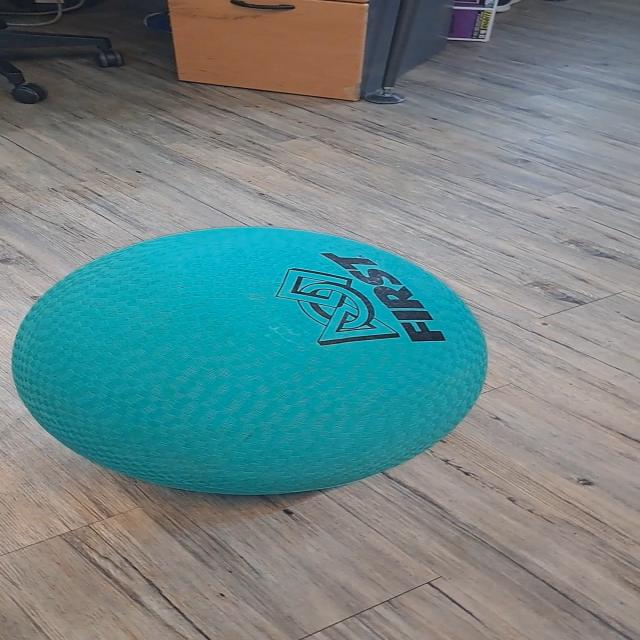ALGAE: (10, 224, 490, 496)
